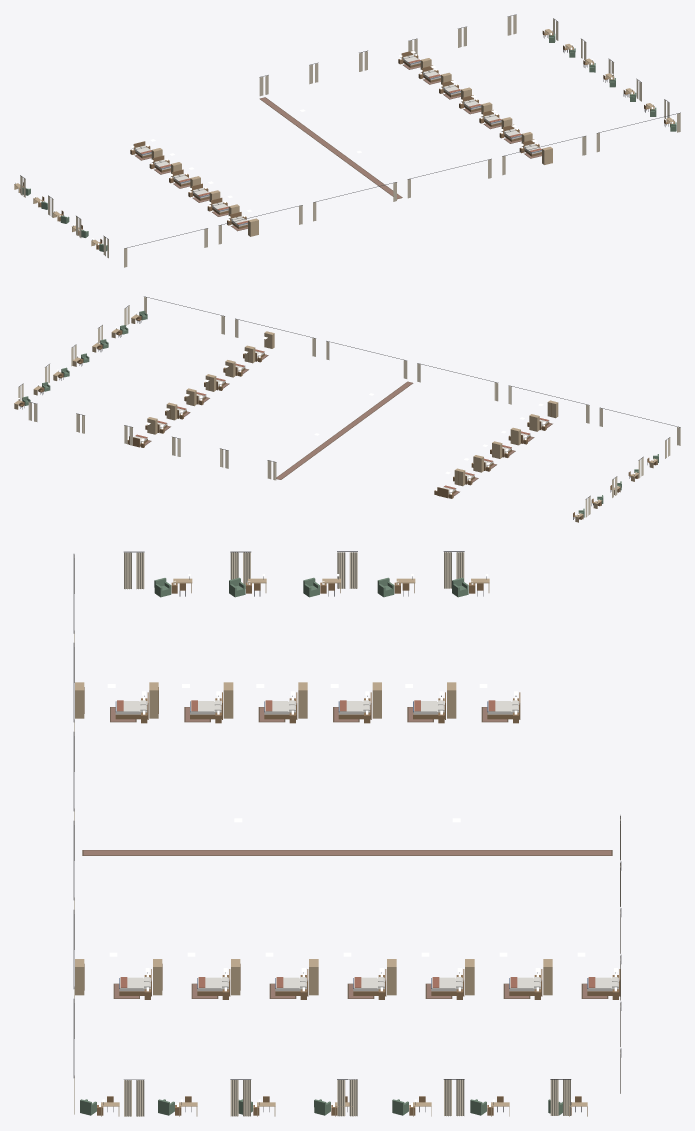
File: fine-s1.glb
The picture shows the model from 3 angles, top to bottom: view 1: azimuth 30°, elevation 25°; view 2: azimuth 150°, elevation 25°; view 3: azimuth 270°, elevation 25°; orthographic projection. The views are drawn at different scales.
Parts seen in each view (by area): view 1: soft-s1; view 2: soft-s1; view 3: soft-s1.
Part boxes in pixels (x1,y1,x2,y2): soft-s1: (20,14,680,267); soft-s1: (18,296,680,517); soft-s1: (73,551,621,1116).
Size of the model in its own units: 79.86 by 2.66 by 34.97.
